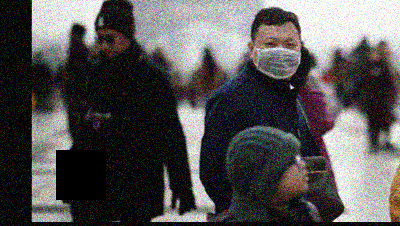with_mask: (253, 35, 303, 79)
without_mask: (281, 154, 310, 198), (94, 29, 126, 58)
